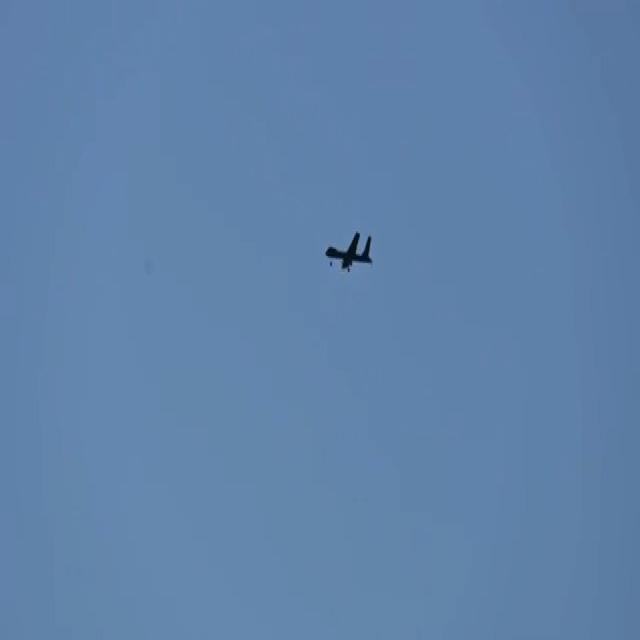iha: (321, 233, 371, 270)
